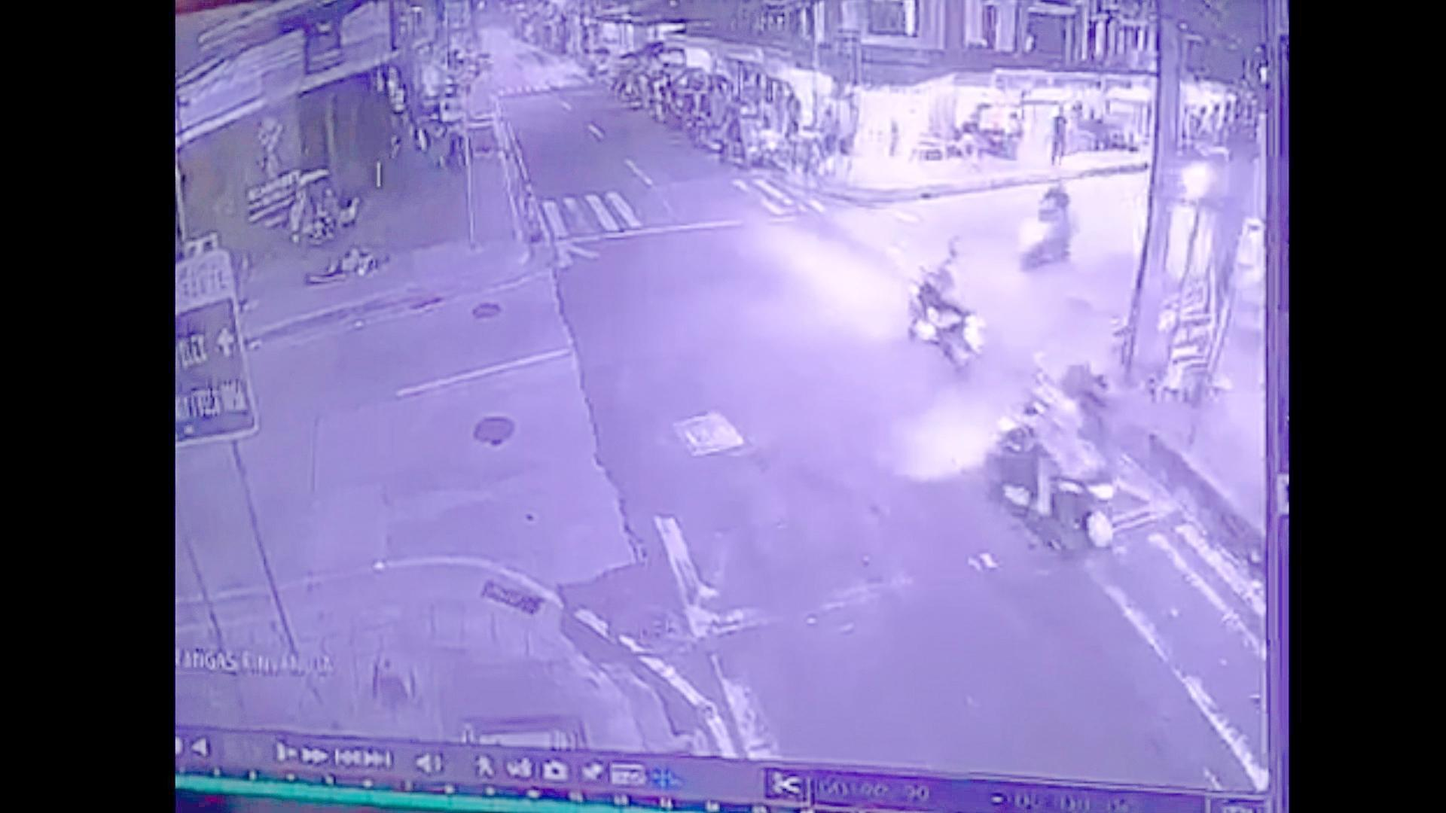Motor: (994, 356, 1116, 547), (906, 231, 983, 367), (1019, 175, 1078, 273)
Not Accident: (898, 173, 1118, 554)
